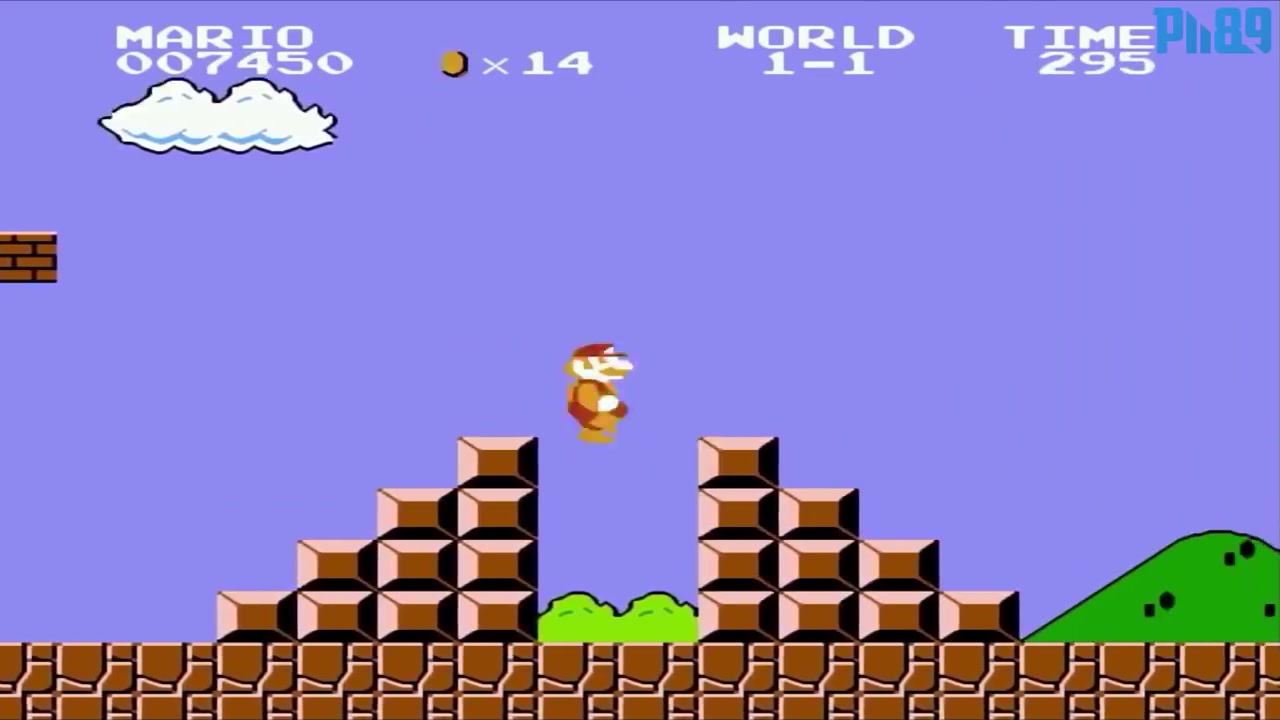mario: (562, 329, 640, 454)
